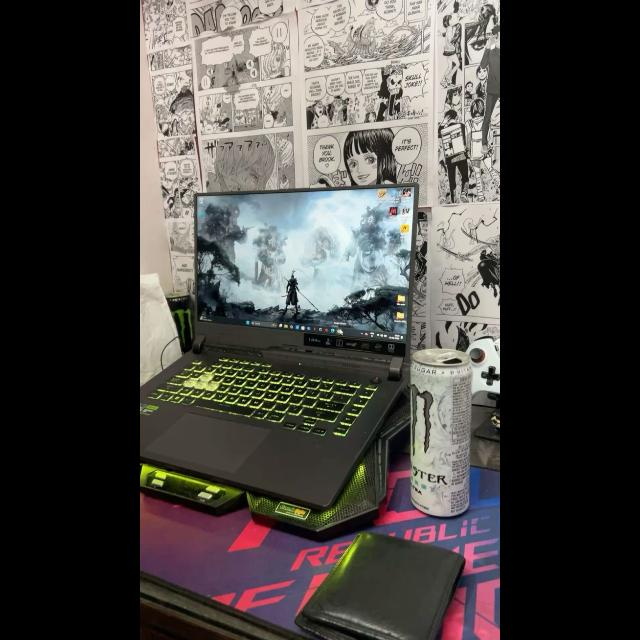laptop: (140, 179, 418, 524), (277, 432, 279, 434)
